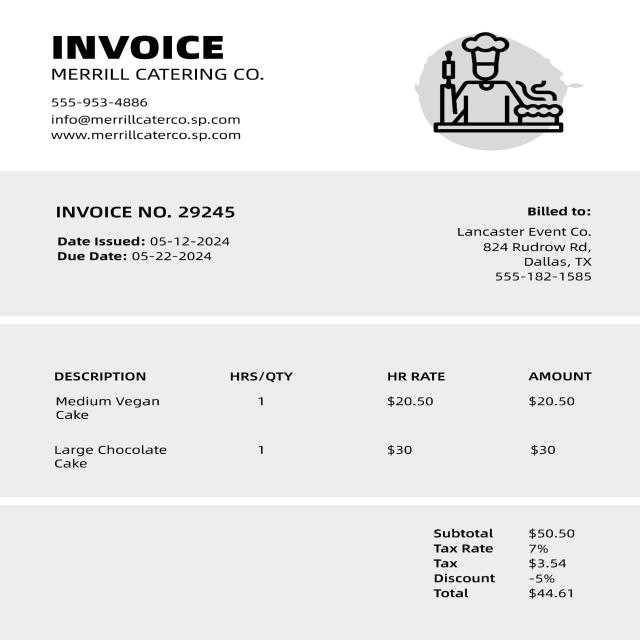paragraph: (390, 18, 582, 153), (442, 199, 609, 291), (412, 528, 610, 603), (53, 200, 245, 267), (46, 92, 248, 154), (36, 25, 243, 63), (34, 66, 274, 86)
table: (19, 358, 617, 481)
